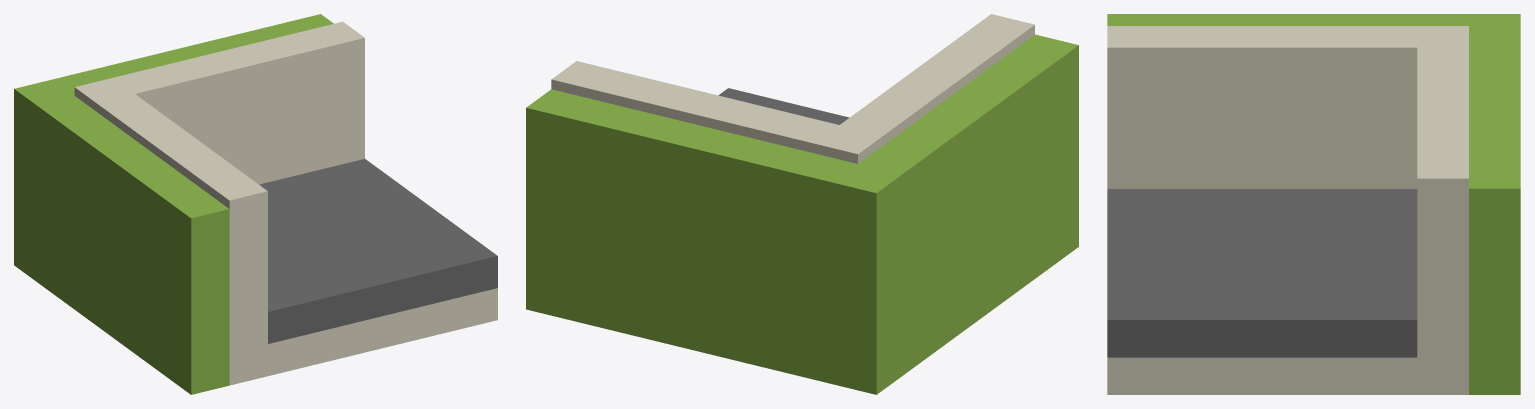
File: tile183.dae
3 renders of one model, left to right at view 1: azimuth 30°, elevation 25°; view 2: azimuth 150°, elevation 25°; view 3: azimuth 270°, elevation 25°, orthographic. The views are drawn at different scales.
Visible parts, largest first — view 1: tile183; view 2: tile183; view 3: tile183.
Boxes of the visible parts, <box> form: tile183: <box>14,14,497,394</box>; tile183: <box>526,14,1078,394</box>; tile183: <box>1107,14,1520,394</box>.
Bounding box in the file's own units: 1 × 0.5767 × 1.
